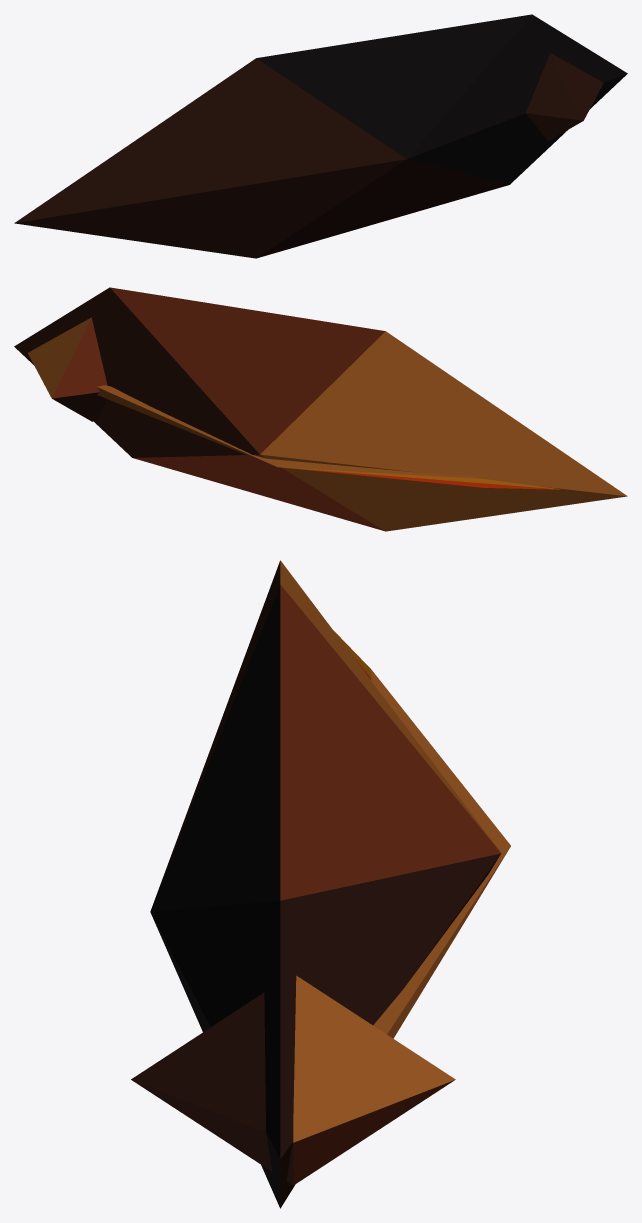
The model's file is boss_armor.obj.
3 views of the same model, one above another, from view 1: azimuth 30°, elevation 25°; view 2: azimuth 150°, elevation 25°; view 3: azimuth 270°, elevation 25° (orthographic). The views are drawn at different scales.
Parts seen in each view (by area): view 1: Armor_Copper_Blade_M1, Armor_Copper_Blade_M0, Armor_Rear_Lock_M1; view 2: Armor_Copper_Blade_M3, Armor_Copper_Blade_M2, Armor_Copper_Blade_M1, Armor_Amber_Inlay_M3, Armor_Rear_Lock_M2, Armor_Rear_Lock_M3, Armor_Rear_Lock_M1, Armor_Amber_Inlay_M4, Armor_Amber_Inlay_M5; view 3: Armor_Copper_Blade_M0, Armor_Copper_Blade_M2, Armor_Copper_Blade_M1, Armor_Rear_Lock_M3, Armor_Rear_Lock_M1, Armor_Amber_Inlay_M3, Armor_Rear_Lock_M2, Armor_Copper_Blade_M3.
Part boxes in pixels (left/top/right/bottom): Armor_Copper_Blade_M1: left=14, top=58, right=508, bottom=258; Armor_Copper_Blade_M0: left=256, top=14, right=627, bottom=184; Armor_Rear_Lock_M1: left=526, top=53, right=603, bottom=140; Armor_Copper_Blade_M3: left=260, top=331, right=627, bottom=531; Armor_Copper_Blade_M2: left=110, top=287, right=385, bottom=531; Armor_Copper_Blade_M1: left=14, top=287, right=259, bottom=457; Armor_Amber_Inlay_M3: left=97, top=385, right=482, bottom=478; Armor_Rear_Lock_M2: left=52, top=318, right=107, bottom=398; Armor_Rear_Lock_M3: left=28, top=317, right=91, bottom=398; Armor_Rear_Lock_M1: left=52, top=392, right=106, bottom=421; Armor_Amber_Inlay_M4: left=281, top=467, right=560, bottom=489; Armor_Amber_Inlay_M5: left=282, top=467, right=561, bottom=489; Armor_Copper_Blade_M0: left=150, top=585, right=280, bottom=1208; Armor_Copper_Blade_M2: left=280, top=584, right=500, bottom=900; Armor_Copper_Blade_M1: left=152, top=561, right=501, bottom=1208; Armor_Rear_Lock_M3: left=293, top=975, right=455, bottom=1142; Armor_Rear_Lock_M1: left=131, top=993, right=293, bottom=1185; Armor_Amber_Inlay_M3: left=371, top=670, right=510, bottom=1038; Armor_Rear_Lock_M2: left=293, top=1080, right=454, bottom=1185; Armor_Copper_Blade_M3: left=280, top=560, right=499, bottom=850.
Size of the model in its own units: 2.18 by 0.68 by 0.585.
